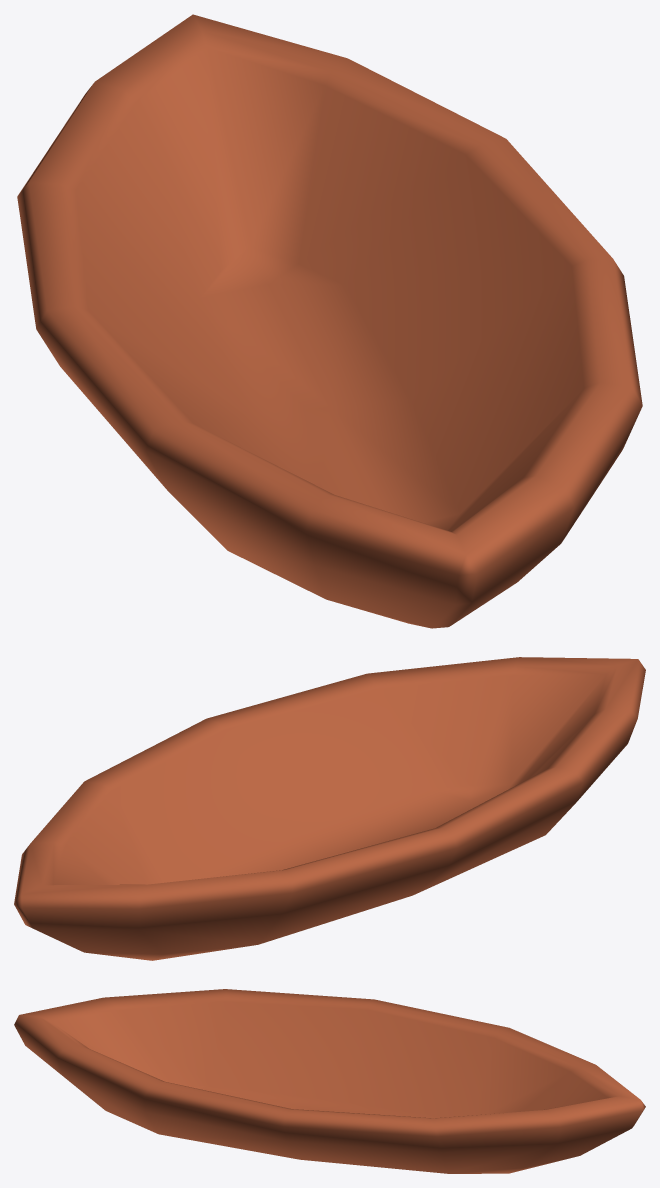
The model's file is sandal.fbx.
3 views of the same model, one above another, from view 1: azimuth 30°, elevation 25°; view 2: azimuth 150°, elevation 25°; view 3: azimuth 270°, elevation 25° (orthographic). The views are drawn at different scales.
Parts seen in each view (by area): view 1: sandal; view 2: sandal; view 3: sandal.
Part boxes in pixels (box(x1,y1,x2,y2)): sandal: box(17, 14, 642, 628); sandal: box(14, 657, 645, 960); sandal: box(14, 989, 645, 1173).
Size of the model in its own units: 135 by 41.52 by 253.
